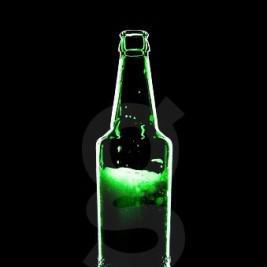beer: (94, 30, 175, 267)
